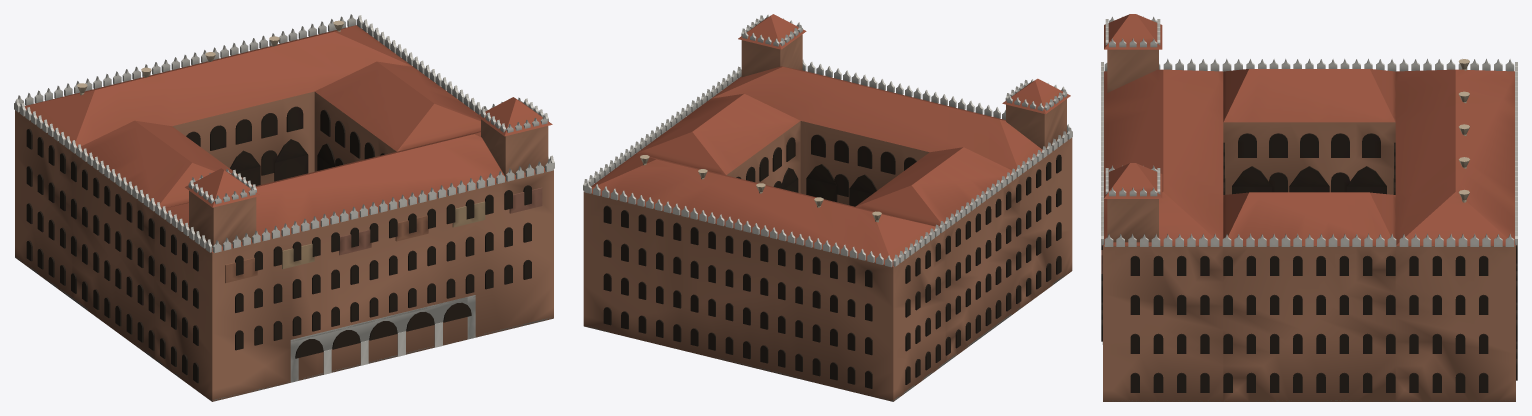
Rendered from fondaco.glb.
The picture shows the model from 3 angles, left to right: view 1: azimuth 30°, elevation 25°; view 2: azimuth 150°, elevation 25°; view 3: azimuth 270°, elevation 25°; orthographic projection. The views are drawn at different scales.
Parts seen in each view (by area): view 1: p0_walls, p2_roofs, p1_facades; view 2: p0_walls, p2_roofs, p1_facades; view 3: p0_walls, p2_roofs, p1_facades.
Part boxes in pixels (bbox=[...]): p0_walls: bbox=[15, 91, 553, 401]; p2_roofs: bbox=[25, 20, 552, 252]; p1_facades: bbox=[14, 14, 554, 383]; p0_walls: bbox=[583, 121, 1072, 401]; p2_roofs: bbox=[591, 14, 1070, 266]; p1_facades: bbox=[583, 59, 1072, 388]; p0_walls: bbox=[1103, 122, 1515, 401]; p2_roofs: bbox=[1103, 14, 1515, 245]; p1_facades: bbox=[1101, 59, 1517, 392].
Bounding box in the file's own units: 48.45 × 29 × 48.45.
